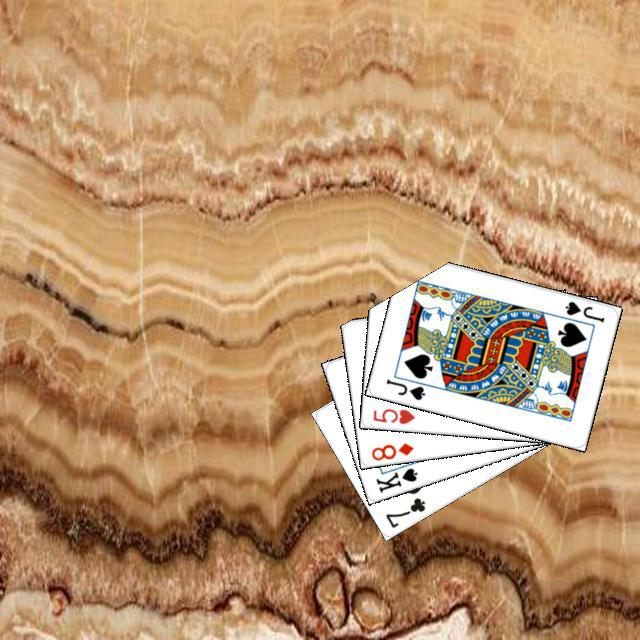5h: (368, 404, 417, 426)
7c: (380, 492, 427, 530)
8d: (367, 438, 415, 462)
Js: (381, 374, 427, 402), (560, 296, 606, 324)
Ks: (371, 463, 419, 494)
